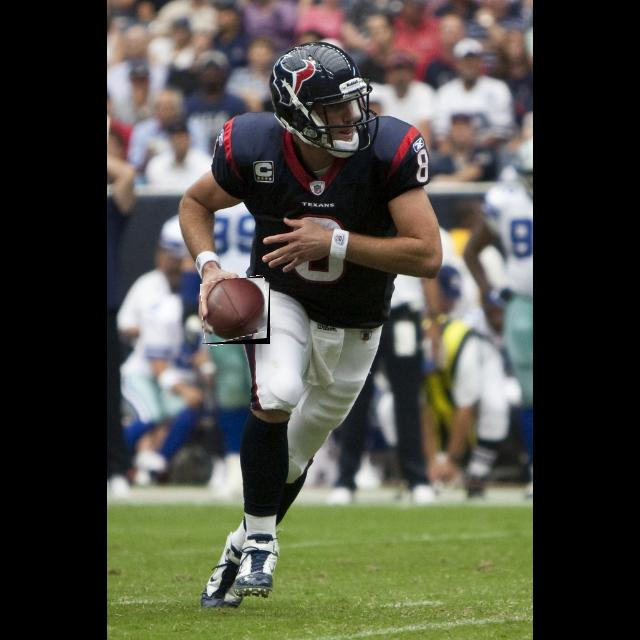Football: (202, 278, 270, 344)
